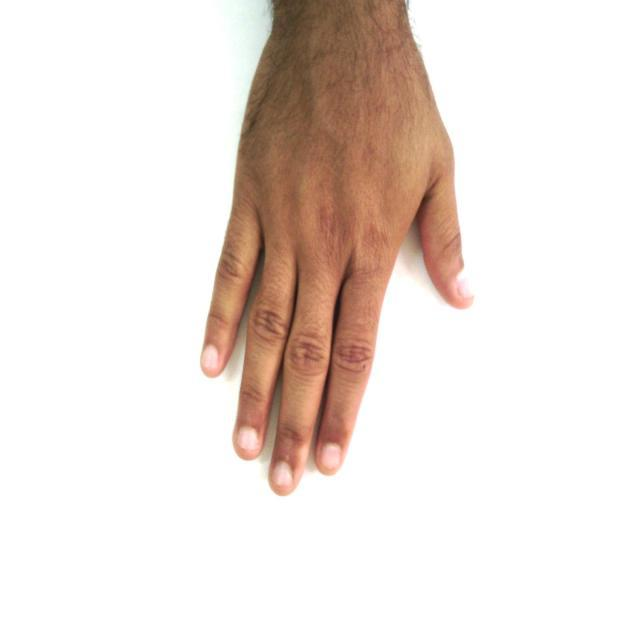Fingernail: (321, 445, 341, 471), (239, 428, 259, 453), (273, 464, 292, 489), (203, 345, 218, 371), (457, 276, 474, 298)
